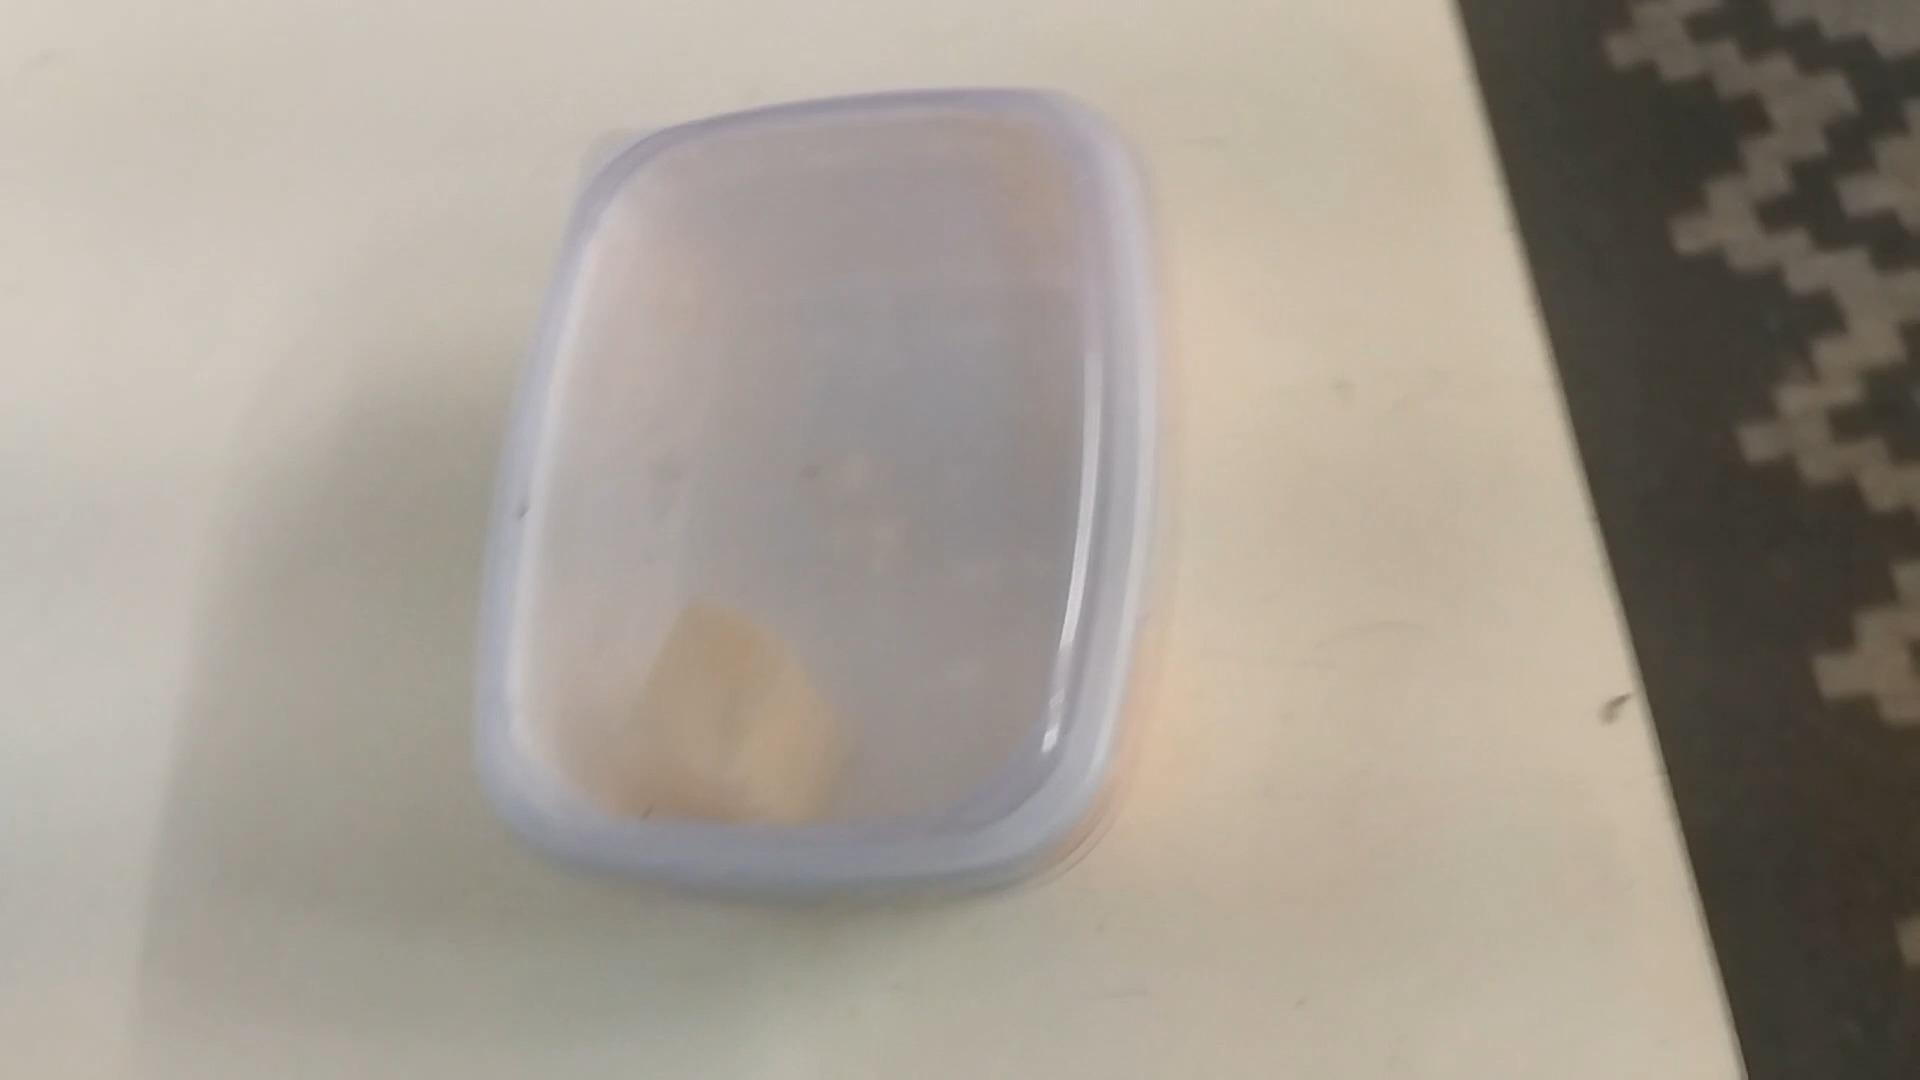butter: (473, 95, 1158, 915)
